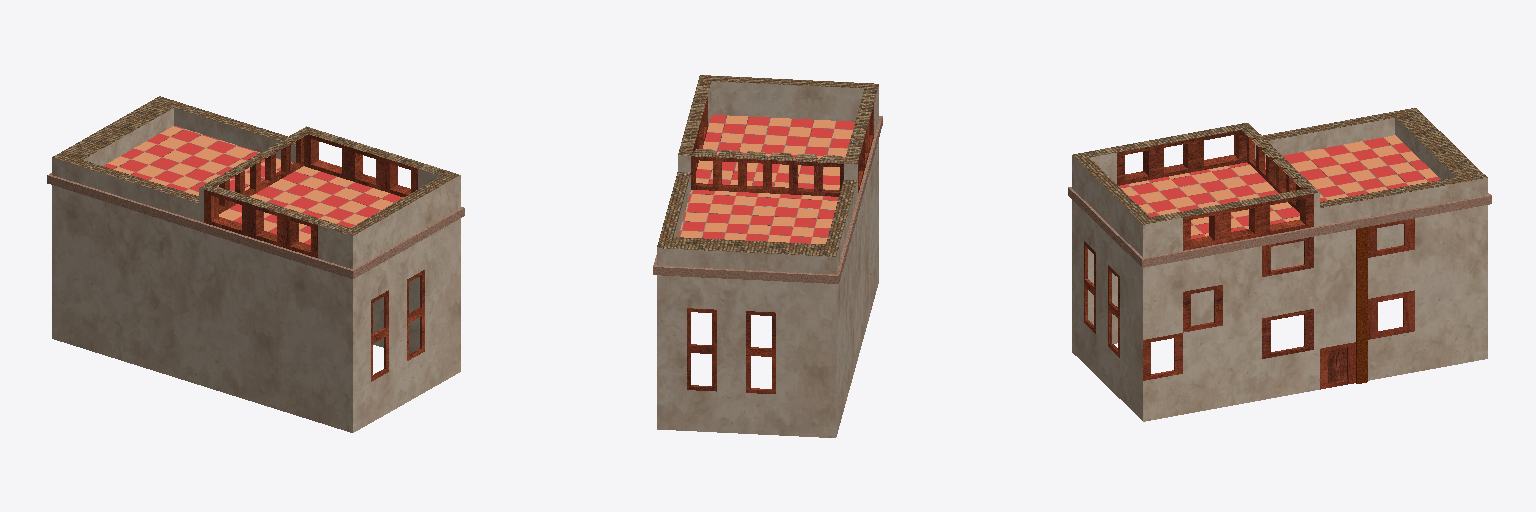
3 renders of one model, left to right at view 1: azimuth 30°, elevation 25°; view 2: azimuth 150°, elevation 25°; view 3: azimuth 270°, elevation 25°, orthographic.
Parts seen in each view (by area): view 1: Cube.015_Cube.087; view 2: Cube.015_Cube.087; view 3: Cube.015_Cube.087.
Boxes of the visible parts, box(x1,y1,x2,y2) form: Cube.015_Cube.087: box(47, 96, 464, 432); Cube.015_Cube.087: box(653, 75, 882, 437); Cube.015_Cube.087: box(1068, 108, 1491, 421).
Size of the model in its own units: 25 by 16.96 by 32.81.
Materials: 1 (1 with a texture image).